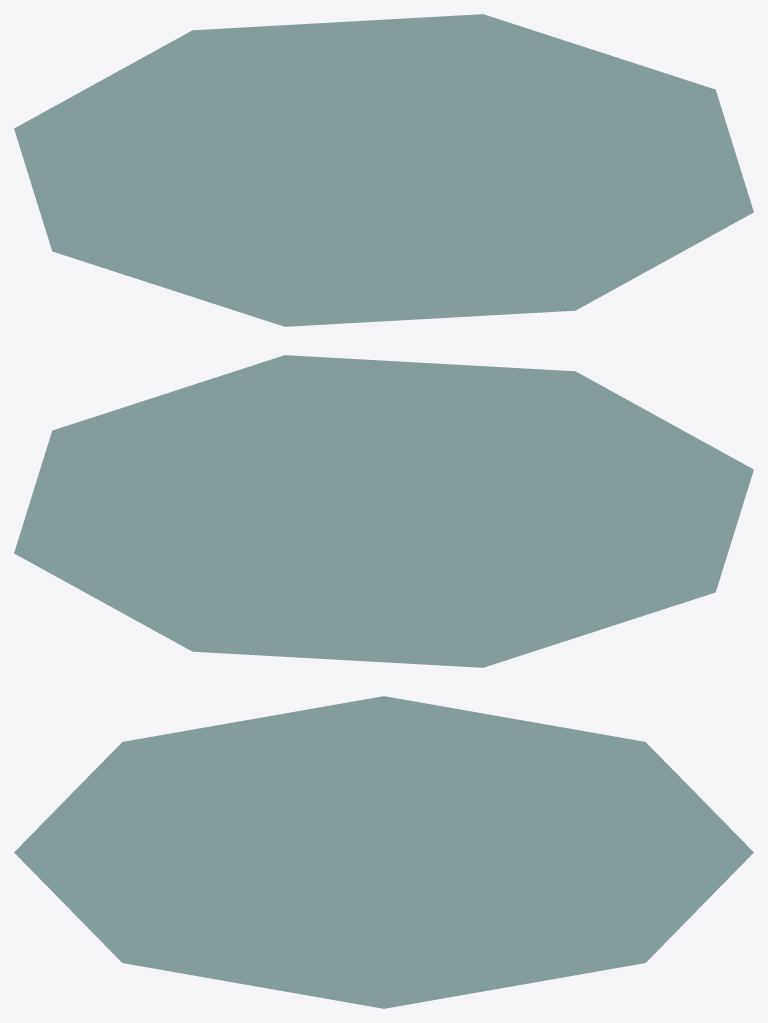
Rendered from SM_GoblinCamp_PotWater.fbx.
The picture shows the model from 3 angles, top to bottom: view 1: azimuth 30°, elevation 25°; view 2: azimuth 150°, elevation 25°; view 3: azimuth 270°, elevation 25°; orthographic projection. The views are drawn at different scales.
Visible parts, largest first — view 1: SM_GoblinCamp_PotWater; view 2: SM_GoblinCamp_PotWater; view 3: SM_GoblinCamp_PotWater.
Boxes of the visible parts, <box> form: SM_GoblinCamp_PotWater: <box>14,14,753,326</box>; SM_GoblinCamp_PotWater: <box>14,355,753,667</box>; SM_GoblinCamp_PotWater: <box>14,696,753,1008</box>.
Size of the model in its own units: 66.31 by 0 by 66.31.
